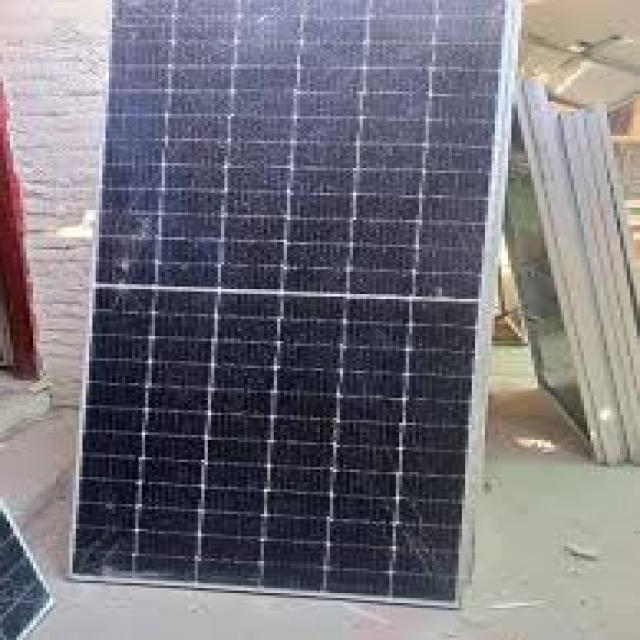faulty: (76, 0, 525, 610)
